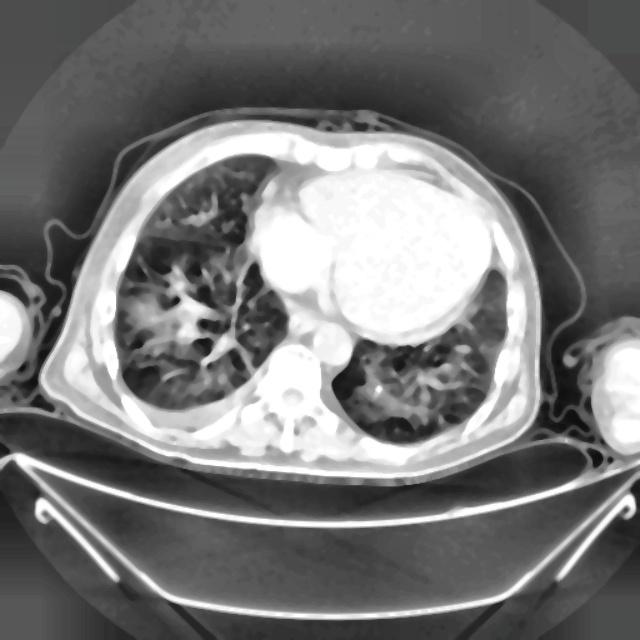covid: (40, 110, 547, 483)
